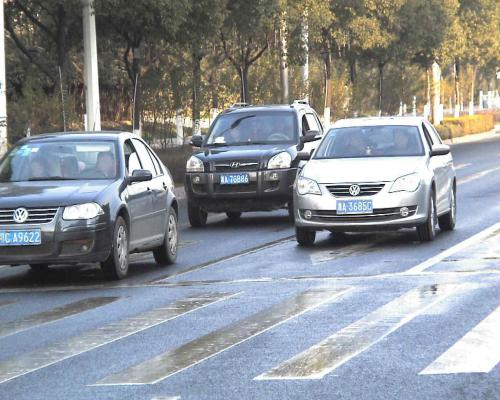Carplate: (330, 196, 378, 217), (216, 170, 251, 188)
